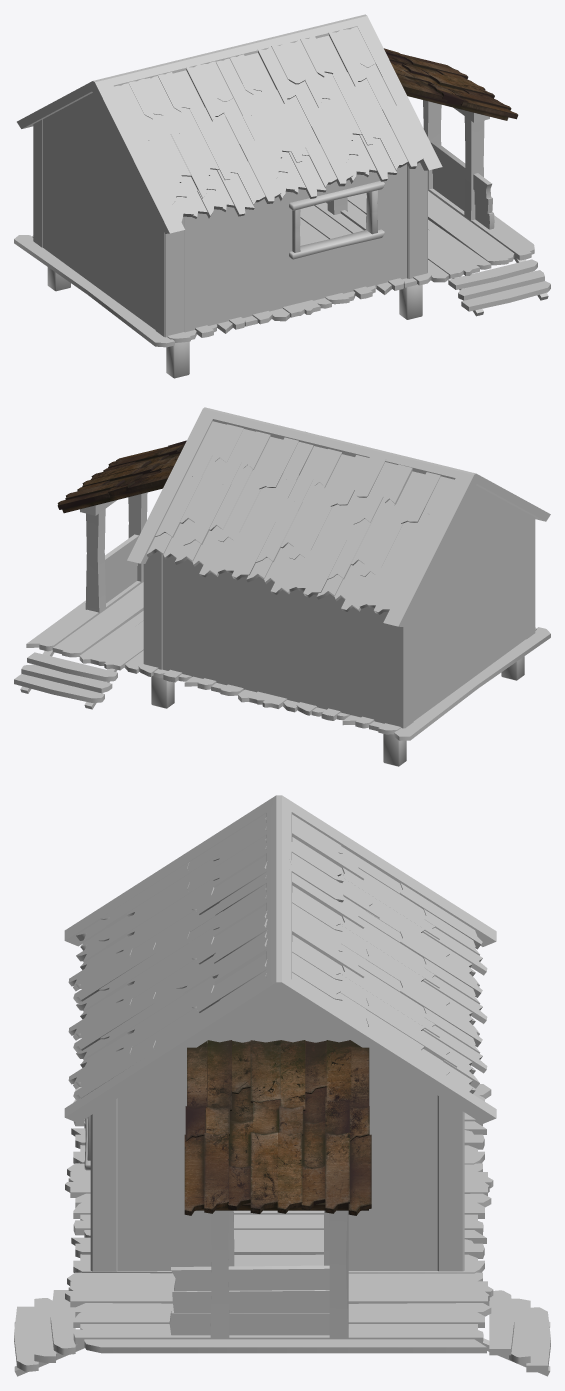
Rendered from cabaña puente.fbx.
The picture shows the model from 3 angles, top to bottom: view 1: azimuth 30°, elevation 25°; view 2: azimuth 150°, elevation 25°; view 3: azimuth 270°, elevation 25°; orthographic projection. The views are drawn at different scales.
Visible parts, largest first — view 1: Cube.056, Cube.104, Cube.050, Cube.063, Cube.175, Cube.033, Cube.031, Cube.065, Cube.034, Cube.062, Cube.058, Cube.059 (+10 smaller); view 2: Cube.056, Cube.038, Cube.050, Cube.063, Cube.175, Cube.034, Cube.032, Cube.066, Cube.033, Cube.072, Cube.076, Cube.073 (+6 smaller); view 3: Cube.050, Cube.056, Cube.104, Cube.175, Cube.038, Cube.063, Cube.032, Cube.031, Cube.071, Cube.057, Cube.070, Cube.066 (+7 smaller).
Boxes of the visible parts, box(x1,y1,x2,y2) form: Cube.056: box(43, 92, 406, 332); Cube.104: box(114, 27, 423, 221); Cube.050: box(14, 188, 534, 347); Cube.063: box(17, 14, 442, 233); Cube.175: box(384, 48, 518, 119); Cube.033: box(155, 215, 184, 337); Cube.031: box(407, 162, 427, 278); Cube.065: box(464, 116, 484, 220); Cube.034: box(33, 119, 42, 247); Cube.062: box(461, 281, 550, 311); Cube.058: box(448, 259, 537, 289); Cube.059: box(458, 270, 544, 300); Cube.056: box(162, 485, 525, 723); Cube.038: box(146, 421, 454, 614); Cube.050: box(26, 581, 550, 740); Cube.063: box(127, 407, 550, 626); Cube.175: box(57, 440, 186, 509); Cube.034: box(385, 606, 413, 728); Cube.032: box(143, 551, 162, 669); Cube.066: box(85, 509, 105, 612); Cube.033: box(526, 512, 535, 639); Cube.072: box(27, 652, 117, 681); Cube.076: box(14, 674, 104, 702); Cube.073: box(21, 664, 112, 693); Cube.050: box(65, 1084, 493, 1353); Cube.056: box(117, 998, 437, 1270); Cube.104: box(68, 814, 267, 1100); Cube.175: box(184, 1040, 371, 1215); Cube.038: box(289, 814, 487, 1093); Cube.063: box(64, 795, 496, 1123); Cube.032: box(437, 1095, 464, 1271); Cube.031: box(90, 1098, 117, 1271); Cube.071: box(171, 1265, 329, 1291); Cube.057: box(169, 1310, 329, 1335); Cube.070: box(172, 1288, 329, 1312); Cube.066: box(329, 1210, 348, 1338).
Size of the model in its own units: 800 by 485 by 662.
